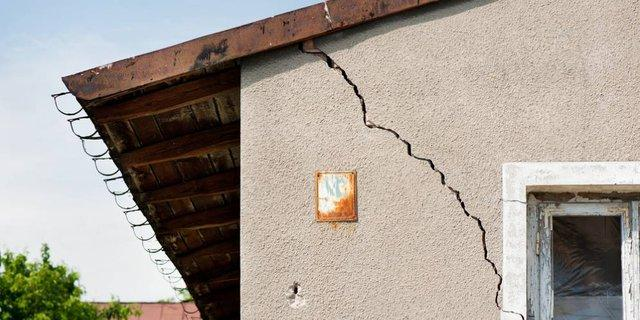Crack: (300, 41, 531, 319)
